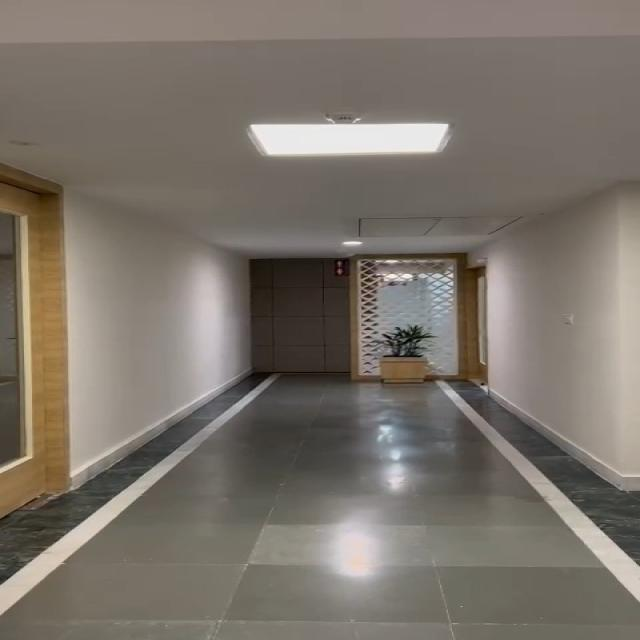door: (3, 165, 74, 504)
floor: (212, 385, 482, 640)
furniture: (361, 314, 454, 403)
wall: (94, 196, 249, 388), (496, 229, 640, 394)
